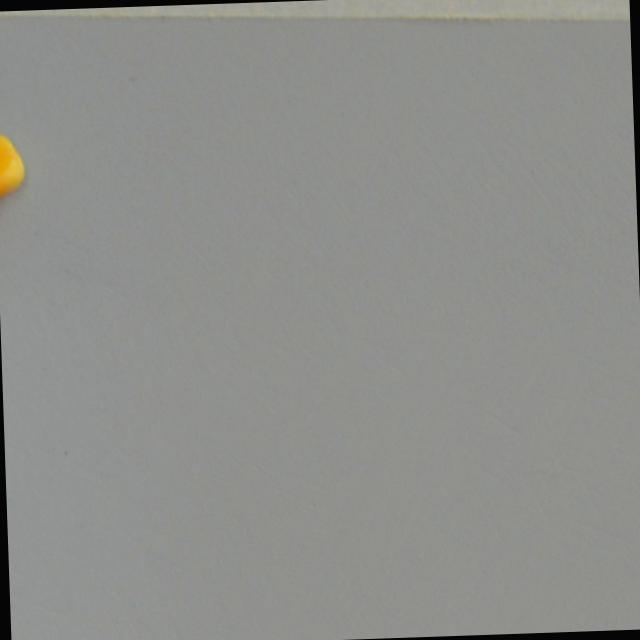entero: (0, 128, 29, 223)
